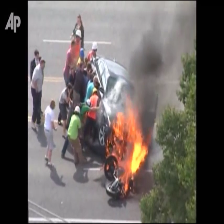fire_h: (106, 95, 147, 193)
fire_l: (107, 159, 116, 170)
